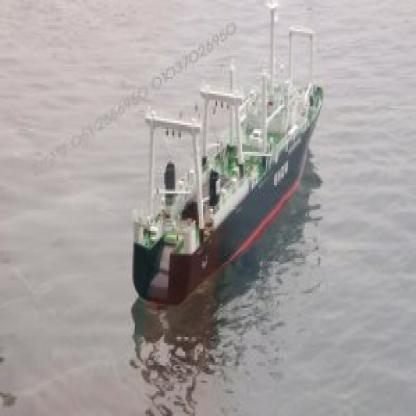fish-b: (121, 4, 333, 318)
